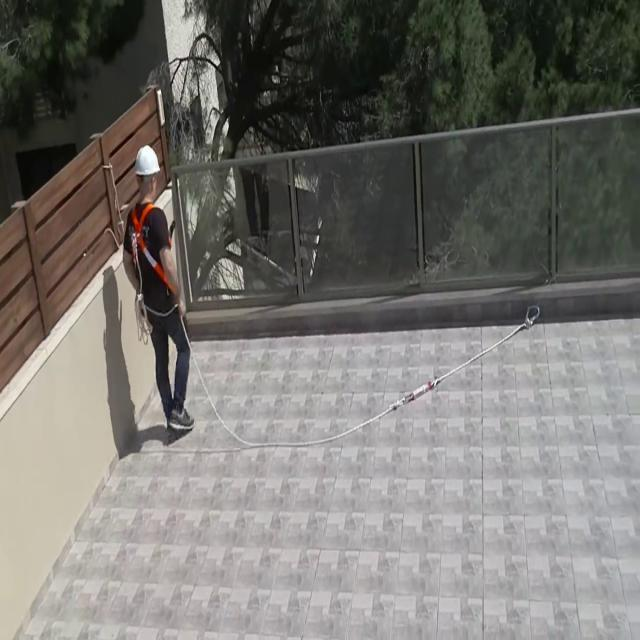Harness: (194, 305, 542, 450), (130, 203, 175, 294)
